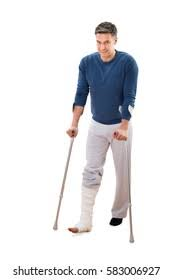crutches: (52, 21, 139, 243)
